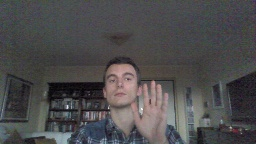Mano_aperta: (128, 79, 170, 141)
